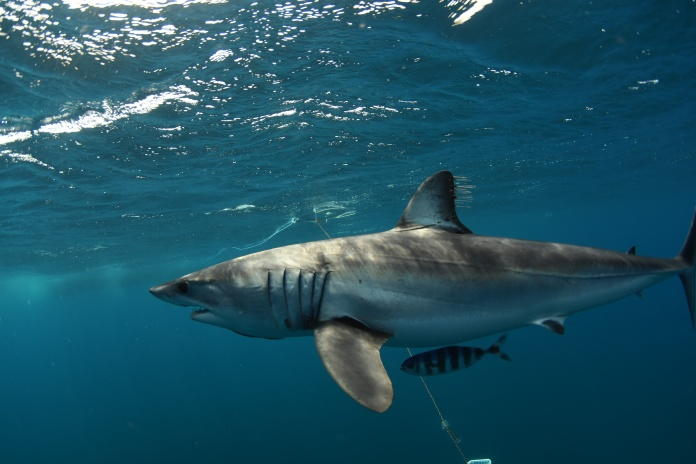Mako: (140, 163, 696, 418)
